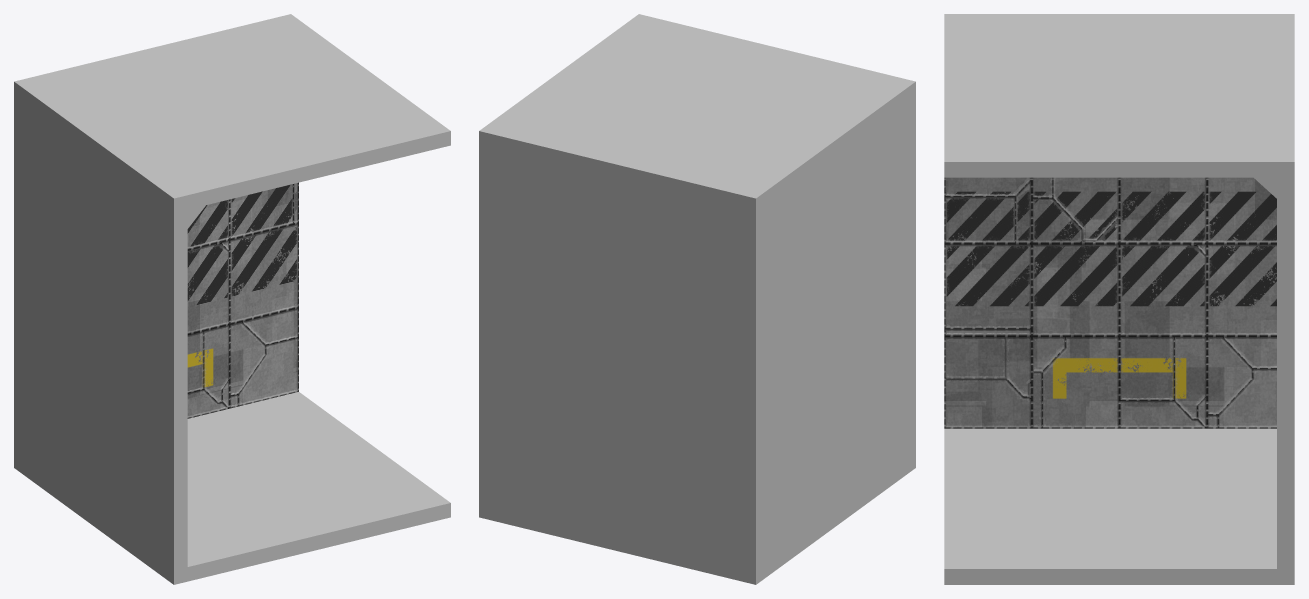
3 renders of one model, left to right at view 1: azimuth 30°, elevation 25°; view 2: azimuth 150°, elevation 25°; view 3: azimuth 270°, elevation 25°, orthographic. The views are drawn at different scales.
Visible parts, largest first — view 1: Body.002; view 2: Body.002; view 3: Body.002.
Boxes of the visible parts, x1,y1,x2,y2 form: Body.002: [14, 14, 450, 584]; Body.002: [479, 14, 915, 584]; Body.002: [944, 14, 1294, 584].
Bounding box in the file's own units: 1.5 × 2 × 1.5.
3 materials, 2 textured.
